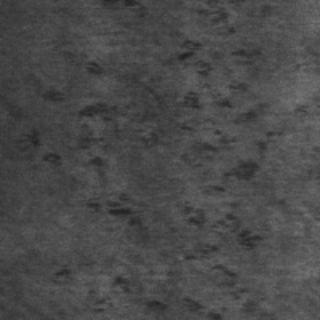rolled pit: (157, 2, 283, 190), (164, 127, 280, 315), (39, 46, 131, 215)
